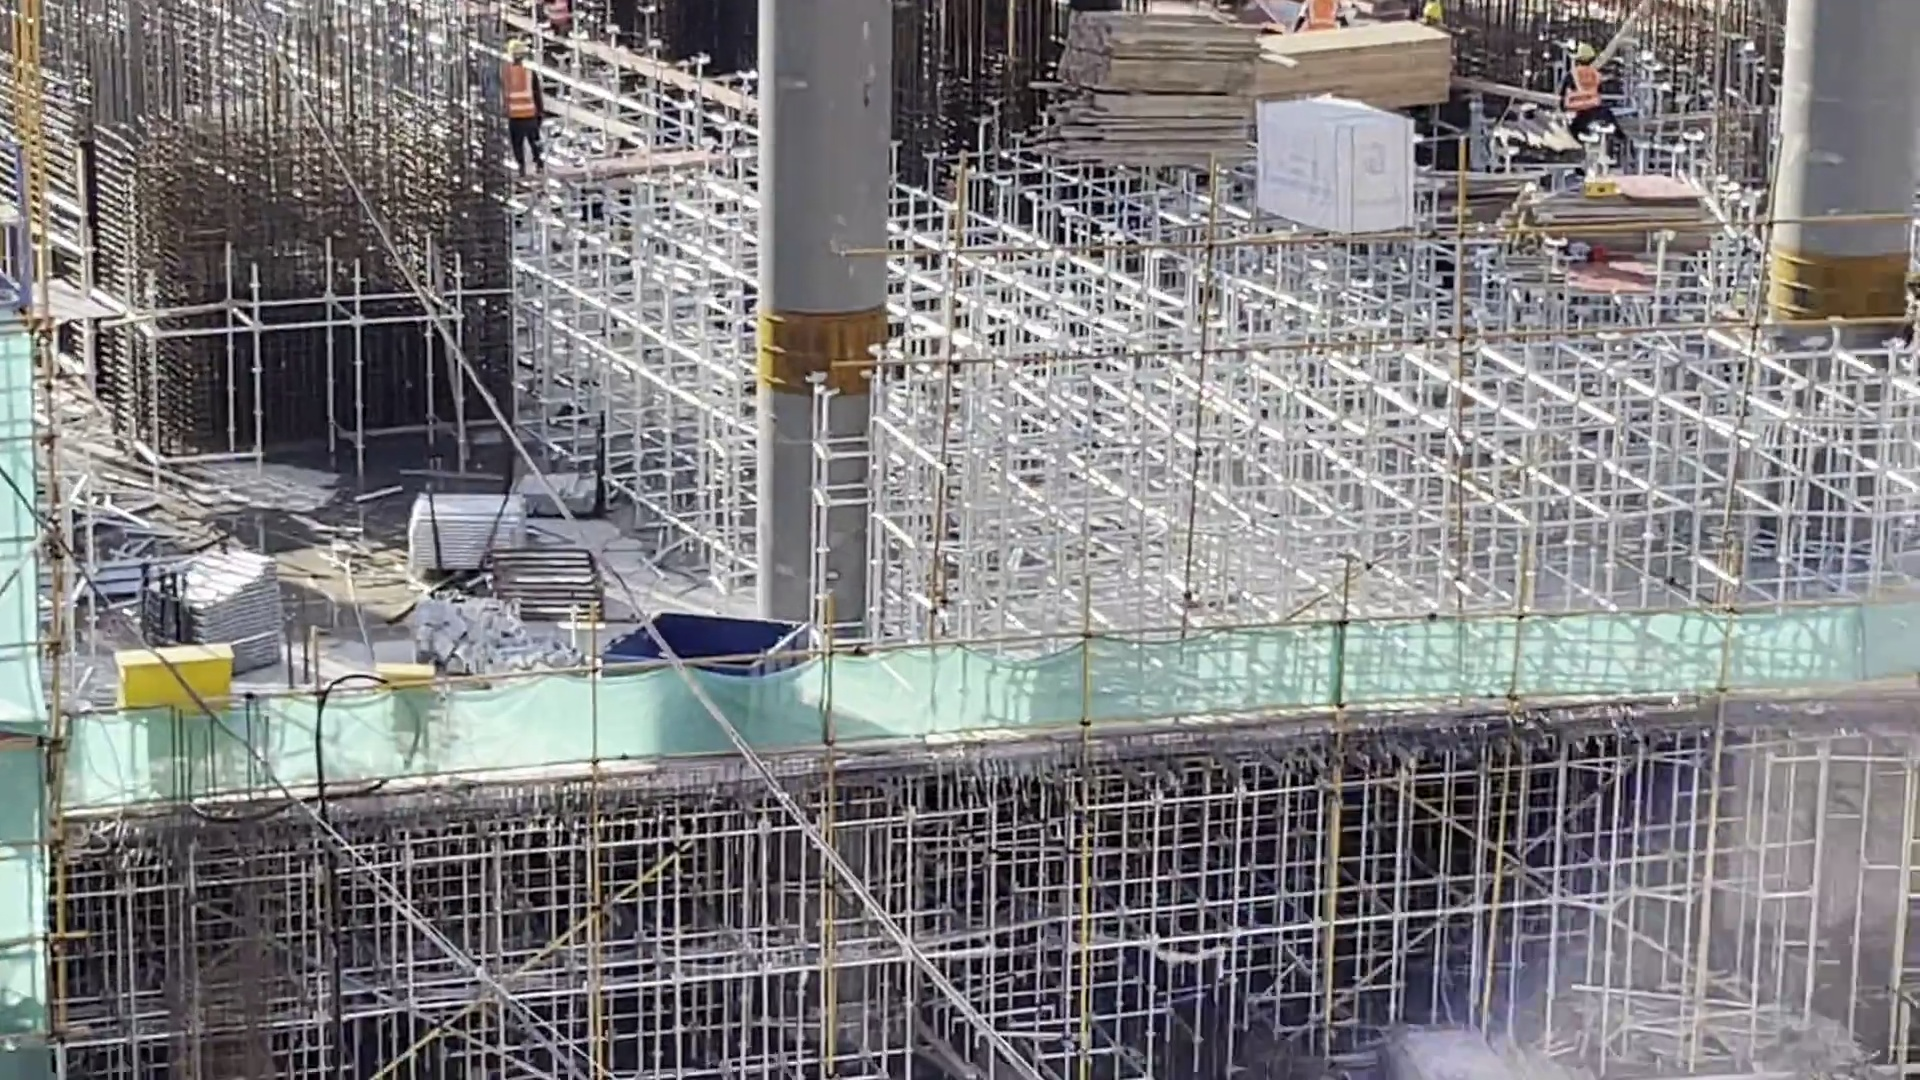board: (1516, 170, 1717, 265)
ebox: (106, 646, 240, 715), (374, 661, 436, 743)
helmet: (1573, 43, 1597, 63), (508, 39, 528, 57)
hopper: (597, 606, 819, 678)
person: (1556, 34, 1624, 147), (496, 37, 546, 178), (533, 1, 576, 50), (1290, 1, 1348, 32)
scaffold: (144, 544, 276, 658), (399, 490, 523, 578)
vest: (505, 64, 536, 125), (1562, 68, 1603, 109), (1305, 1, 1336, 28)
wood: (1034, 19, 1235, 185), (1256, 14, 1458, 118)
